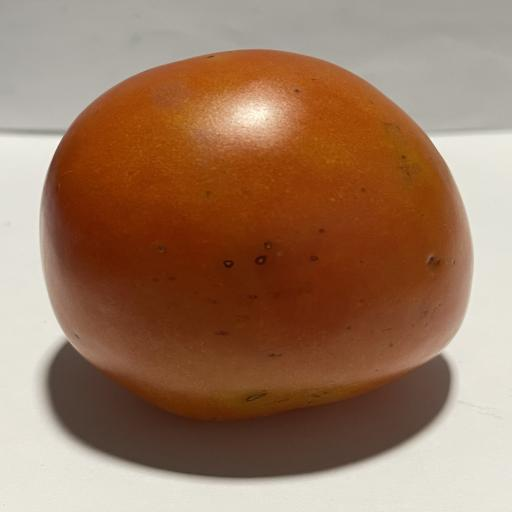ripe: (41, 50, 472, 421)
